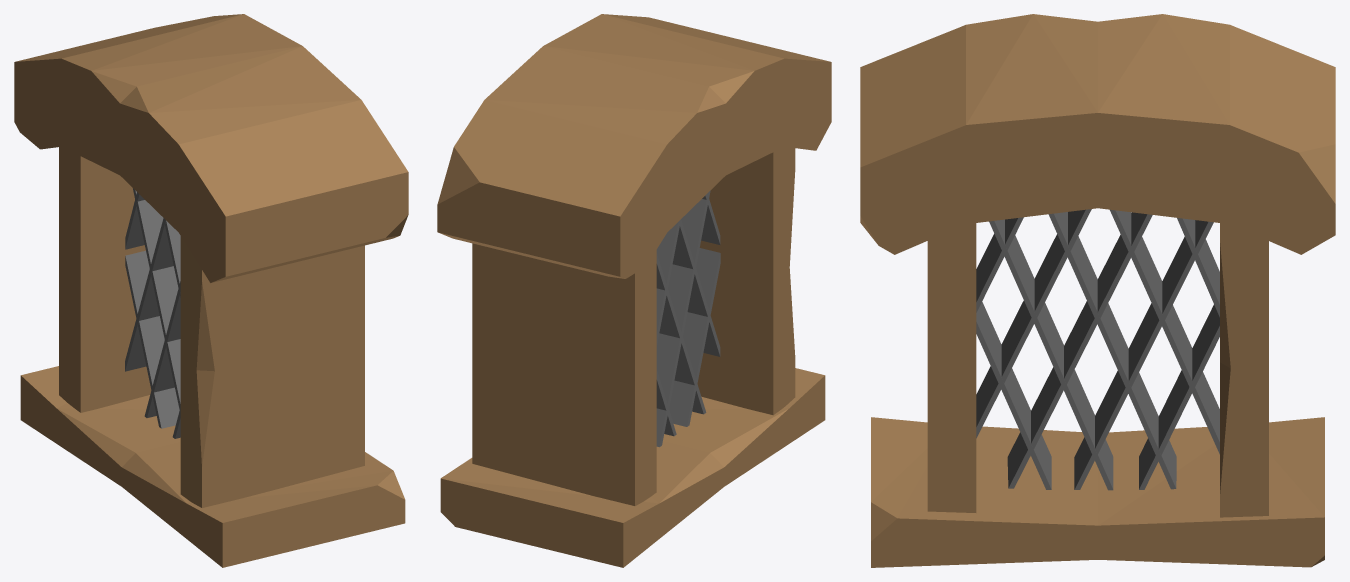
Rendered from SFV_Window_004.fbx.
The picture shows the model from 3 angles, left to right: view 1: azimuth 30°, elevation 25°; view 2: azimuth 150°, elevation 25°; view 3: azimuth 270°, elevation 25°; orthographic projection. The views are drawn at different scales.
Visible parts, largest first — view 1: SFV_Window_004; view 2: SFV_Window_004; view 3: SFV_Window_004.
Part boxes in pixels (box(x1,y1,x2,y2)): SFV_Window_004: box(14, 14, 408, 567); SFV_Window_004: box(437, 14, 831, 567); SFV_Window_004: box(860, 14, 1335, 567).
Size of the model in its own units: 56.2 by 118 by 112.
